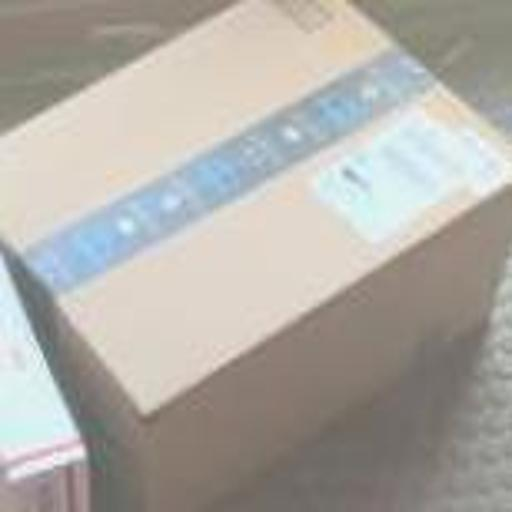Amazon: (8, 0, 493, 463)
Other: (0, 253, 106, 511)
